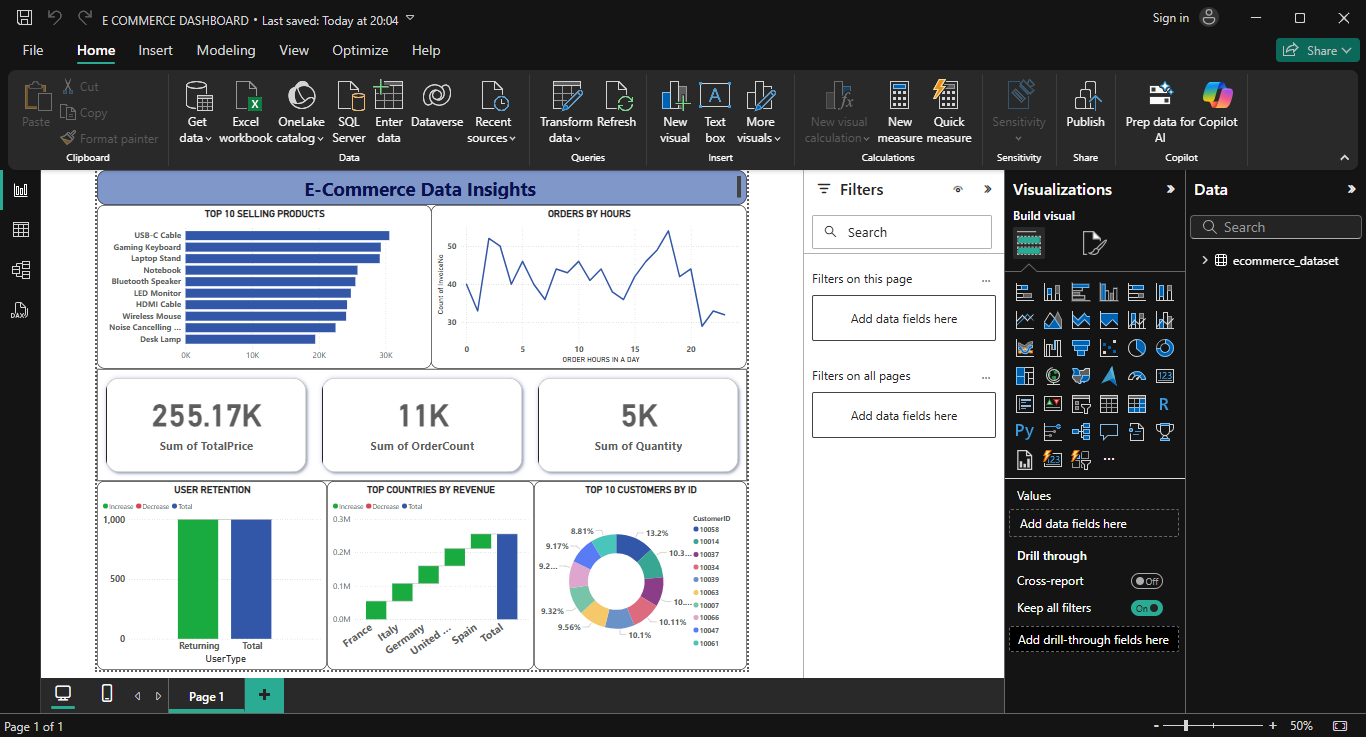

What the dashboard file says about the page in this screenshot:
{"tool":"powerbi","page":{"name":"Page 1","canvas":[1300,1000],"ordinal":0},"visuals":[{"type":"barChart","title":"TOP 10 SELLING PRODUCTS ","fields":{"Category":["ecommerce_dummy_dataset.Description"],"Y":["Sum(ecommerce_dummy_dataset.TotalPrice)"]},"box":[0,70.6,668.6,327.5],"z":0},{"type":"lineChart","title":"ORDERS BY HOURS","fields":{"Category":["ecommerce_dummy_dataset.OrderHour"],"Y":["CountNonNull(ecommerce_dummy_dataset.InvoiceNo)"]},"box":[668.6,70.6,631.4,327.5],"z":1000},{"type":"waterfallChart","title":"USER RETENTION ","fields":{"Category":["ecommerce_dummy_dataset.UserType"],"Y":["CountNonNull(ecommerce_dummy_dataset.CustomerID)"]},"box":[0,622,460,378],"z":2000},{"type":"waterfallChart","title":"TOP COUNTRIES BY REVENUE ","fields":{"Category":["ecommerce_dummy_dataset.Country"],"Y":["Sum(ecommerce_dummy_dataset.TotalPrice)"]},"box":[460,622,414,378],"z":3000},{"type":"donutChart","title":"TOP 10 CUSTOMERS BY ID ","fields":{"Category":["ecommerce_dummy_dataset.CustomerID"],"Y":["Sum(ecommerce_dummy_dataset.TotalPrice)"]},"box":[874,622,426,378],"z":4000},{"type":"cardVisual","fields":{"Data":["Sum(ecommerce_dummy_dataset.TotalPrice)","Sum(ecommerce_dummy_dataset.OrderCount)","Sum(ecommerce_dummy_dataset.Quantity)"]},"box":[0,398,1300,224],"z":5000},{"type":"textbox","box":[0,0,1300,70],"z":6000}]}

Visuals, with their boxes on the page's 1300x1000 design canvas (x1, y1, x2, y2). These are canvas units, not pixel positions in the 1366x737 screenshot, which may show the page scaled, cropped or inside an application window:
"TOP 10 SELLING PRODUCTS " barChart: box=[0, 71, 669, 398]
"ORDERS BY HOURS" lineChart: box=[669, 71, 1300, 398]
"USER RETENTION " waterfallChart: box=[0, 622, 460, 1000]
"TOP COUNTRIES BY REVENUE " waterfallChart: box=[460, 622, 874, 1000]
"TOP 10 CUSTOMERS BY ID " donutChart: box=[874, 622, 1300, 1000]
cardVisual - Sum(ecommerce_dummy_dataset.TotalPrice) x Sum(ecommerce_dummy_dataset.OrderCount): box=[0, 398, 1300, 622]
textbox: box=[0, 0, 1300, 70]
